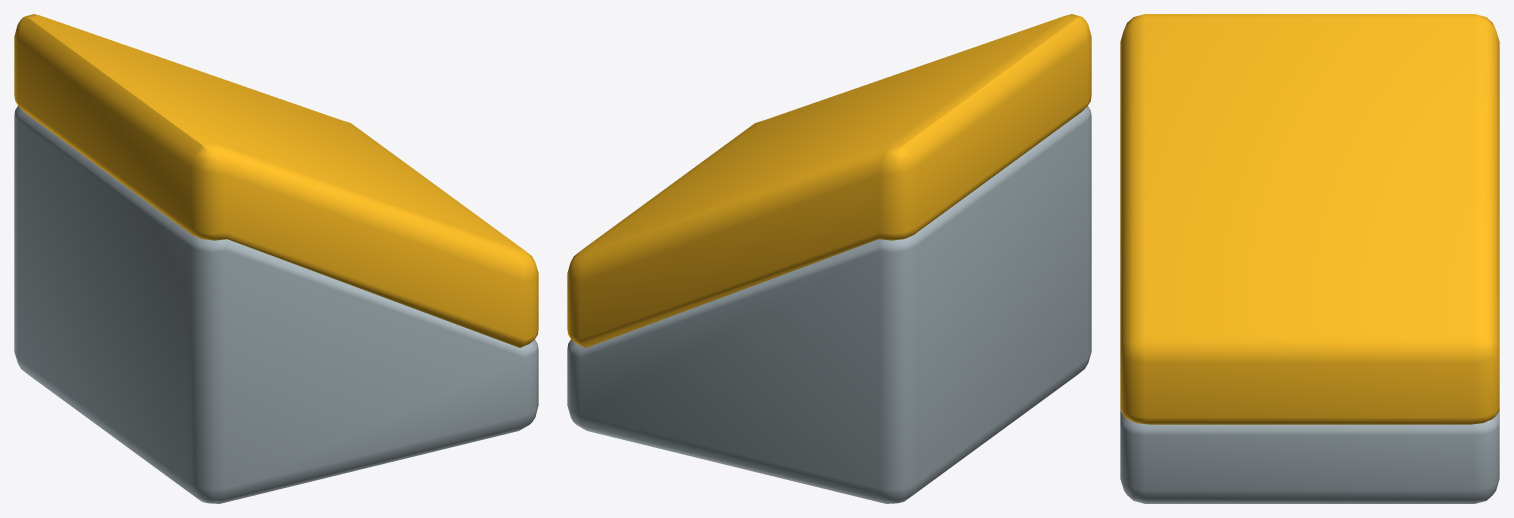
Rendered from tileSlopeLowHigh_teamYellow.glb.
3 views of the same model, side by side, from view 1: azimuth 30°, elevation 25°; view 2: azimuth 150°, elevation 25°; view 3: azimuth 270°, elevation 25° (orthographic). The views are drawn at different scales.
Visible parts, largest first — view 1: tileSlopeLowHigh_teamYellow; view 2: tileSlopeLowHigh_teamYellow; view 3: tileSlopeLowHigh_teamYellow.
Part boxes in pixels (left/top/right/bottom): tileSlopeLowHigh_teamYellow: left=14, top=14, right=538, bottom=503; tileSlopeLowHigh_teamYellow: left=567, top=14, right=1091, bottom=503; tileSlopeLowHigh_teamYellow: left=1120, top=14, right=1499, bottom=503.
Size of the model in its own units: 0.6 by 0.6 by 0.6.
